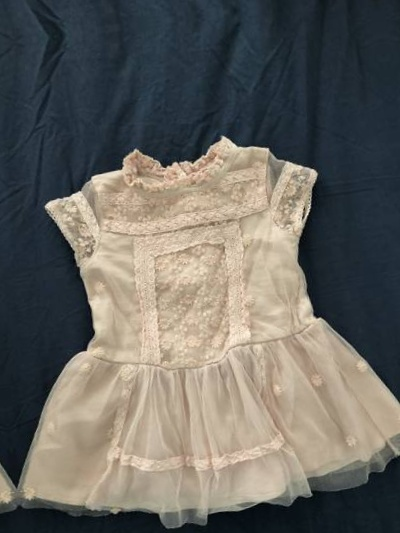Dress: (0, 107, 400, 533), (0, 165, 24, 533)
